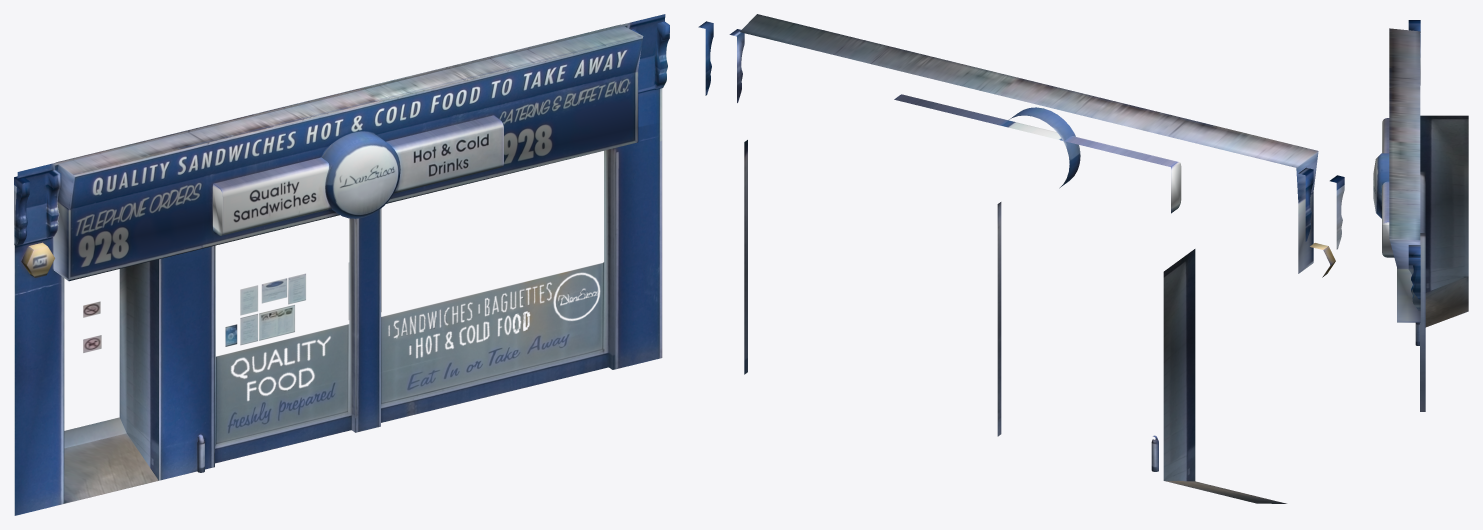
Rendered from 00_shop_front11.glb.
3 renders of one model, left to right at view 1: azimuth 30°, elevation 25°; view 2: azimuth 150°, elevation 25°; view 3: azimuth 270°, elevation 25°, orthographic. The views are drawn at different scales.
Visible parts, largest first — view 1: shop_front11; view 2: shop_front11; view 3: shop_front11.
Boxes of the visible parts, bbox=[...] form: shop_front11: bbox=[14, 14, 669, 515]; shop_front11: bbox=[698, 14, 1344, 503]; shop_front11: bbox=[1373, 20, 1468, 411].
Size of the model in its own units: 5 by 2.55 by 0.8391.
Materials: 2 (2 with a texture image).
